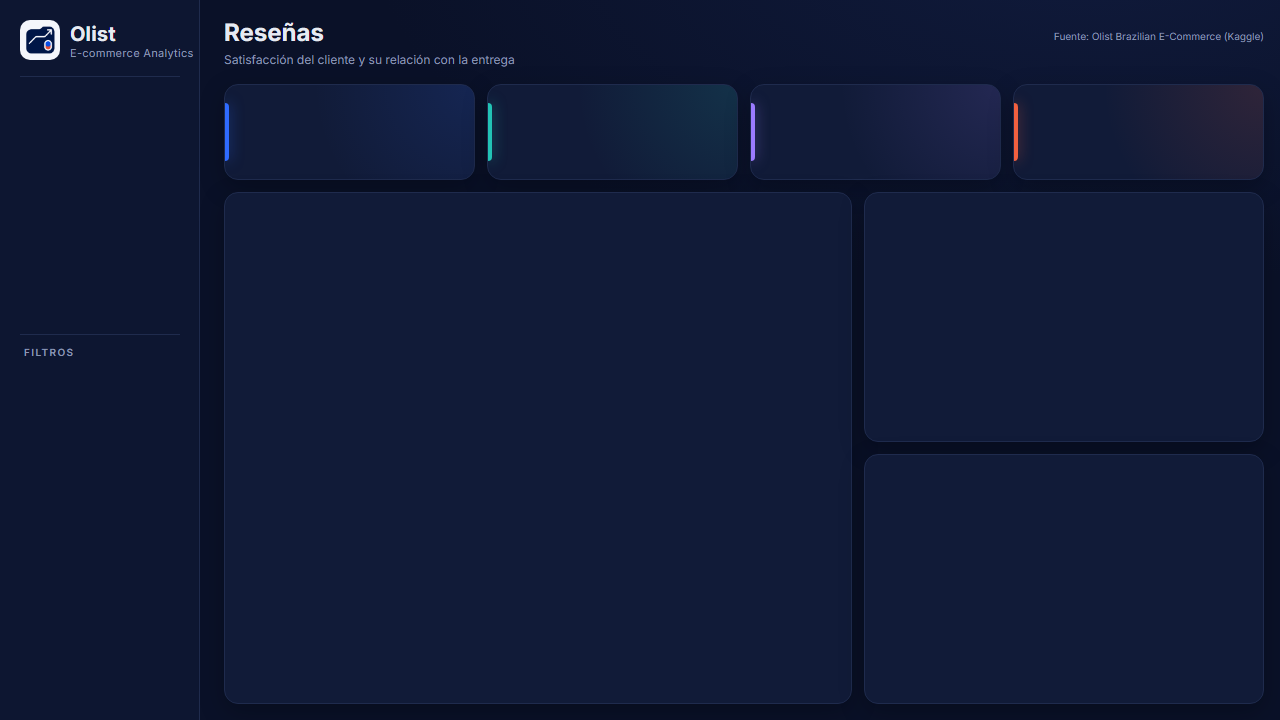

This screenshot's page, from the dashboard's own definition file:
{"tool":"powerbi","page":{"name":"✅ 5. Análisis Reseñas","canvas":[1280,720],"ordinal":4},"visuals":[{"type":"image","box":[1150,10,120,88.3],"z":0},{"type":"textbox","box":[51.1,10.5,588.9,87.1],"z":1000},{"type":"card","title":"Promedio Reviews","fields":{"Values":["df_nuevas_columnas.Promedio Reviews"]},"box":[320,123.3,230,105],"z":2000},{"type":"card","title":"Puntuaciones Totales","fields":{"Values":["df_nuevas_columnas.Total_Reseñas"]},"box":[51.7,123.3,230,105],"z":3000},{"type":"card","title":"% Reseñas Positivas","fields":{"Values":["df_nuevas_columnas.% Reseñas Positivas"]},"box":[184.8,255.4,229.9,105.2],"z":4000},{"type":"columnChart","title":"Cantidad de Pedidos por Puntuación","fields":{"Category":["df_nuevas_columnas.review_score_entero"],"Series":["df_nuevas_columnas.Late_Delivery_Label_Limpio"],"Y":["df_nuevas_columnas.Total_Reseñas"]},"box":[676.7,123.3,565,281.7],"z":5000},{"type":"stackedAreaChart","title":"Promedio Puntuación en el Tiempo","fields":{"Category":["df_nuevas_columnas.Año-Mes"],"Y":["df_nuevas_columnas.Promedio Reviews"]},"box":[51.1,422.2,588.9,282.4],"z":6000},{"type":"scatterChart","title":"Relación entre Tiempo de Entrega y Puntuación","fields":{"Series":["df_nuevas_columnas.Region"],"Size":["Sum(df_nuevas_columnas.review_score_entero)1"],"X":["df_nuevas_columnas.delivery_delay_numerico"],"Y":["df_nuevas_columnas.review_score_entero"]},"box":[676.7,421.7,565,281.7],"z":7000}]}

Visuals, with their boxes on the page's 1280x720 design canvas (x1, y1, x2, y2). These are canvas units, not pixel positions in the 1280x720 screenshot, which may show the page scaled, cropped or inside an application window:
image: <region>1150, 10, 1270, 98</region>
textbox: <region>51, 10, 640, 98</region>
"Promedio Reviews" card: <region>320, 123, 550, 228</region>
"Puntuaciones Totales" card: <region>52, 123, 282, 228</region>
"% Reseñas Positivas" card: <region>185, 255, 415, 361</region>
"Cantidad de Pedidos por Puntuación" columnChart: <region>677, 123, 1242, 405</region>
"Promedio Puntuación en el Tiempo" stackedAreaChart: <region>51, 422, 640, 705</region>
"Relación entre Tiempo de Entrega y Puntuación" scatterChart: <region>677, 422, 1242, 703</region>
